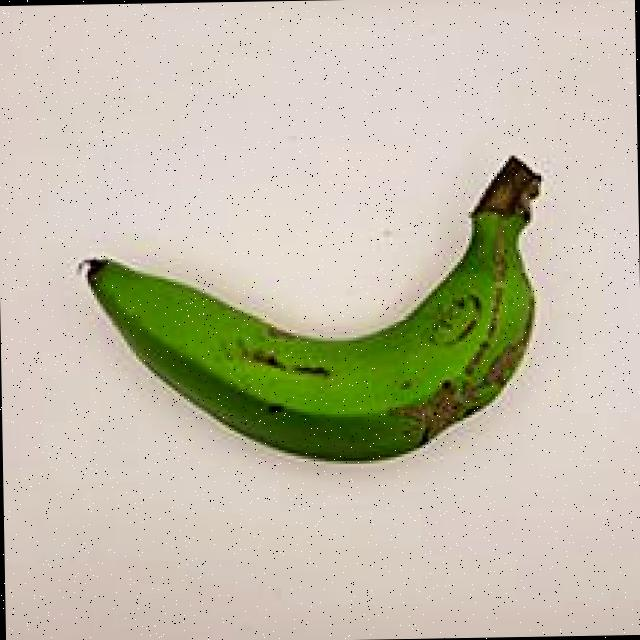Raw: (74, 140, 574, 486)
